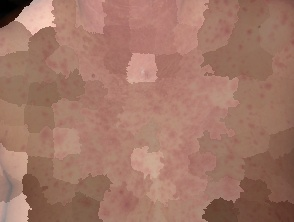SJS-TEN: (25, 0, 281, 222)
